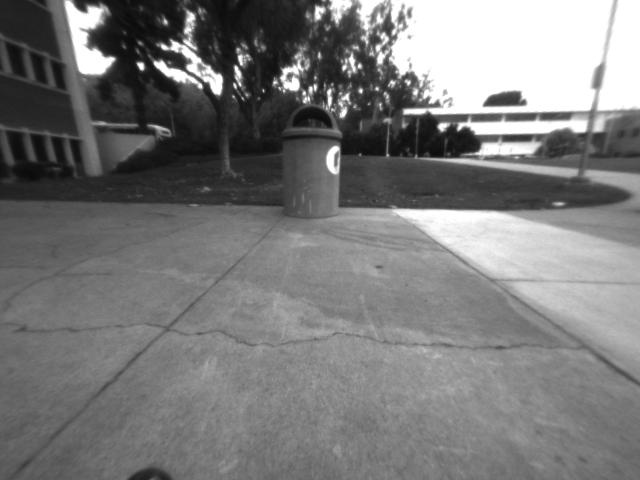trashcan: (280, 97, 348, 219)
